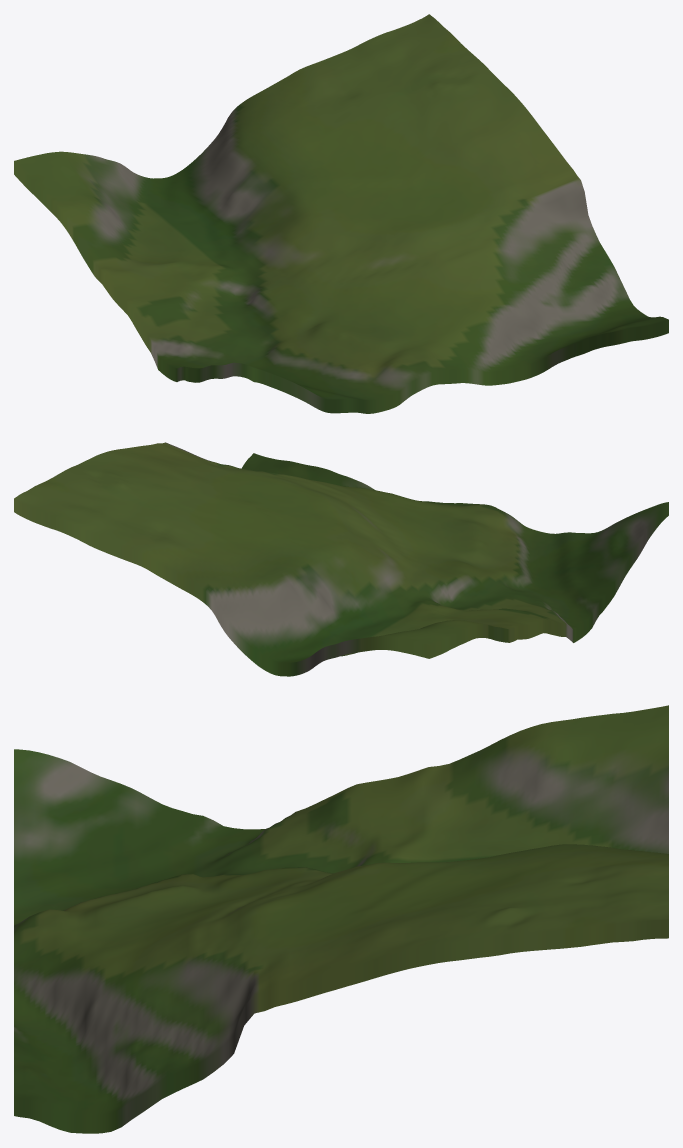
The model's file is terrain_11_-23.glb.
3 views of the same model, one above another, from view 1: azimuth 30°, elevation 25°; view 2: azimuth 150°, elevation 25°; view 3: azimuth 270°, elevation 25° (orthographic). The views are drawn at different scales.
Visible parts, largest first — view 1: terrain_11_-23; view 2: terrain_11_-23; view 3: terrain_11_-23.
Boxes of the visible parts, x1,y1,x2,y2 form: terrain_11_-23: (14,14,668,413); terrain_11_-23: (14,442,668,676); terrain_11_-23: (14,705,668,1133).
Bounding box in the file's own units: 256 × 92.2 × 256.
